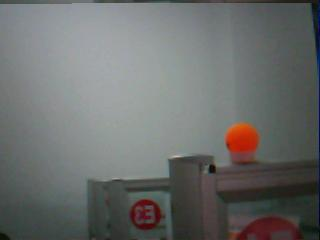oball: (226, 123, 259, 151)
